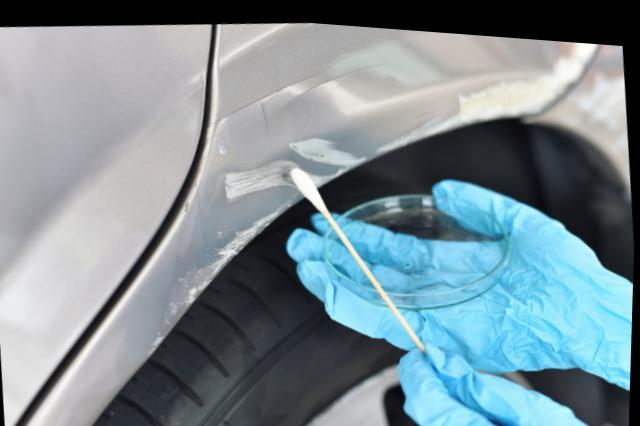scratch: (149, 128, 363, 357)
